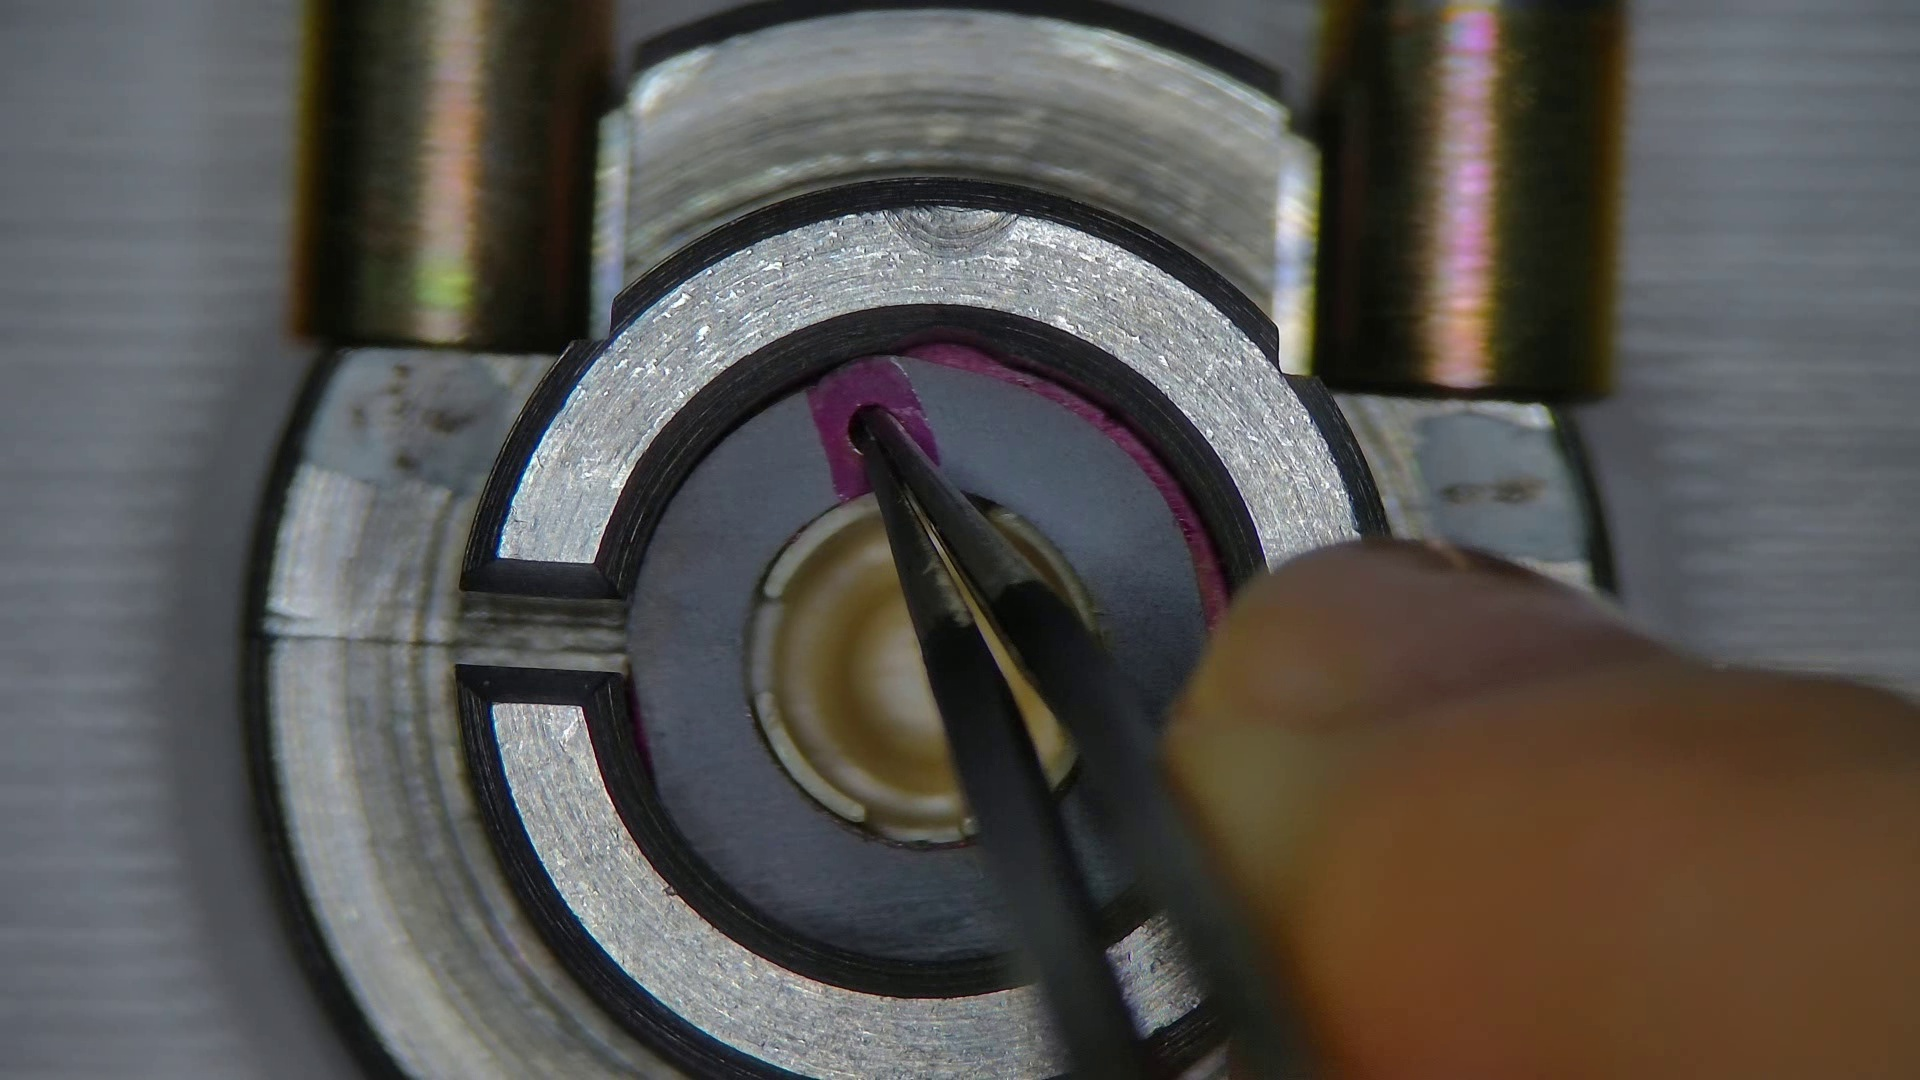GreyOring: (911, 338, 1224, 629)
YellowOring: (630, 353, 1203, 964), (1059, 789, 1139, 899)
